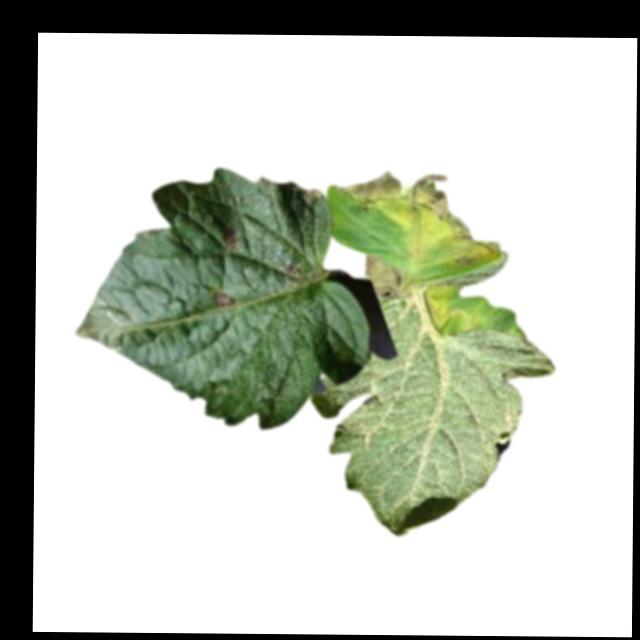Late_blight: (426, 284, 482, 330), (404, 168, 454, 217), (338, 170, 403, 206), (365, 254, 409, 296), (450, 218, 476, 241), (212, 291, 240, 311), (283, 260, 304, 281), (223, 229, 239, 254), (453, 256, 477, 267)
healthy: (307, 294, 557, 537)
